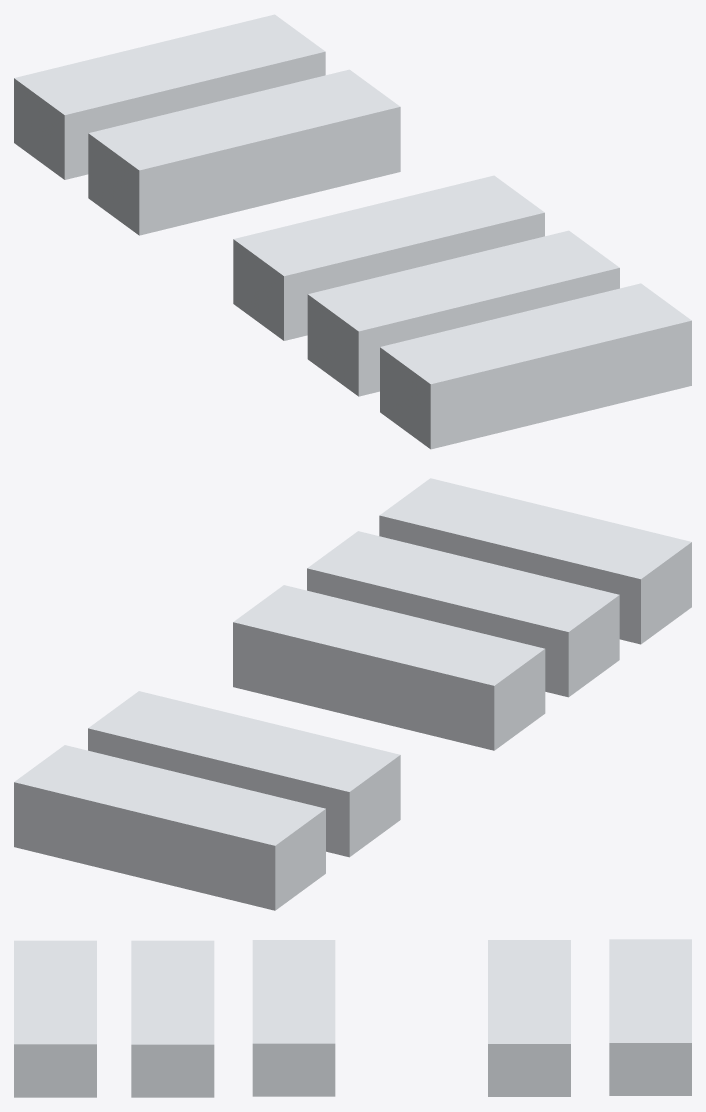
Rendered from fgr_fur_keyboard_black.fbx.
3 views of the same model, one above another, from view 1: azimuth 30°, elevation 25°; view 2: azimuth 150°, elevation 25°; view 3: azimuth 270°, elevation 25° (orthographic). The views are drawn at different scales.
Parts seen in each view (by area): view 1: fgr_fur_keyboard_blacks; view 2: fgr_fur_keyboard_blacks; view 3: fgr_fur_keyboard_blacks.
Part boxes in pixels (x1,y1,x2,y2): fgr_fur_keyboard_blacks: [14, 14, 691, 449]; fgr_fur_keyboard_blacks: [14, 478, 691, 910]; fgr_fur_keyboard_blacks: [14, 939, 691, 1097].
Bounding box in the file's own units: 945 × 230 × 2607.
Materials: 1 (1 with a texture image).
